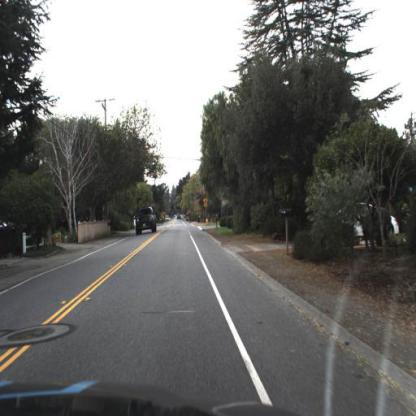car: (333, 198, 403, 242), (133, 205, 158, 235)
